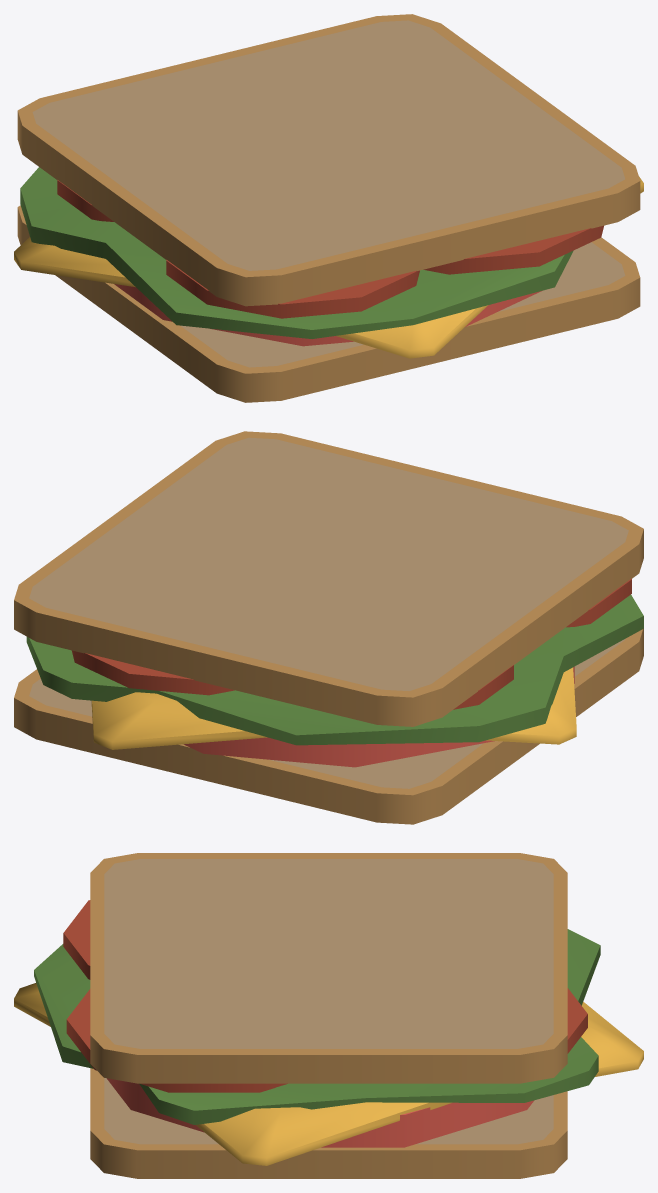
Rendered from Sandwich_01.fbx.
The picture shows the model from 3 angles, top to bottom: view 1: azimuth 30°, elevation 25°; view 2: azimuth 150°, elevation 25°; view 3: azimuth 270°, elevation 25°; orthographic projection. The views are drawn at different scales.
Visible parts, largest first — view 1: Sandwich_01; view 2: Sandwich_01; view 3: Sandwich_01.
Part boxes in pixels (<box>): Sandwich_01: <box>14,14,643,402</box>; Sandwich_01: <box>14,431,643,824</box>; Sandwich_01: <box>14,853,643,1178</box>.
Size of the model in its own units: 0.1807 by 0.0392 by 0.1807.
